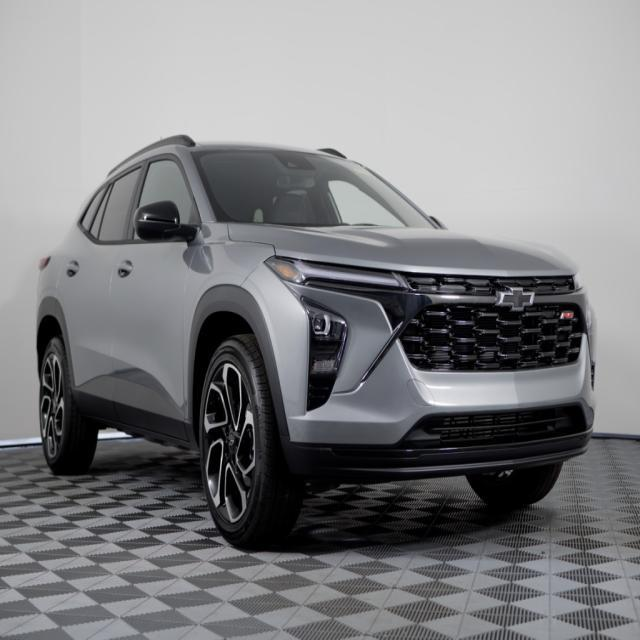sedan: (35, 132, 598, 550)
